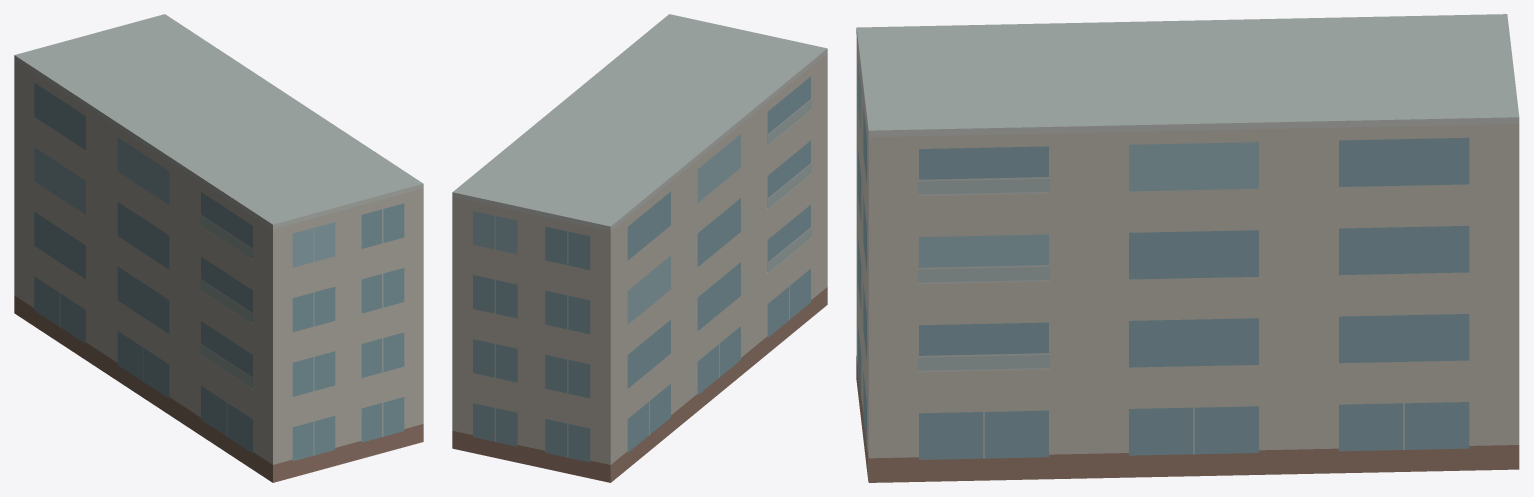
File: survey-upis-33016688.glb
3 views of the same model, side by side, from view 1: azimuth 30°, elevation 25°; view 2: azimuth 150°, elevation 25°; view 3: azimuth 270°, elevation 25° (orthographic). The views are drawn at different scales.
Visible parts, largest first — view 1: survey-upis-33016688.tmp; view 2: survey-upis-33016688.tmp; view 3: survey-upis-33016688.tmp.
Part boxes in pixels (x1,y1,x2,y2): survey-upis-33016688.tmp: (14,14,423,482); survey-upis-33016688.tmp: (452,14,827,482); survey-upis-33016688.tmp: (856,14,1519,482).
Bounding box in the file's own units: 9.38 × 13.2 × 22.52.
